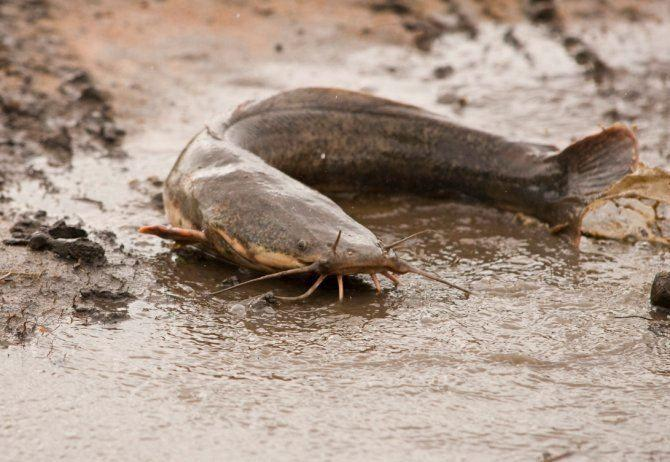Catfish: (143, 86, 644, 315)
